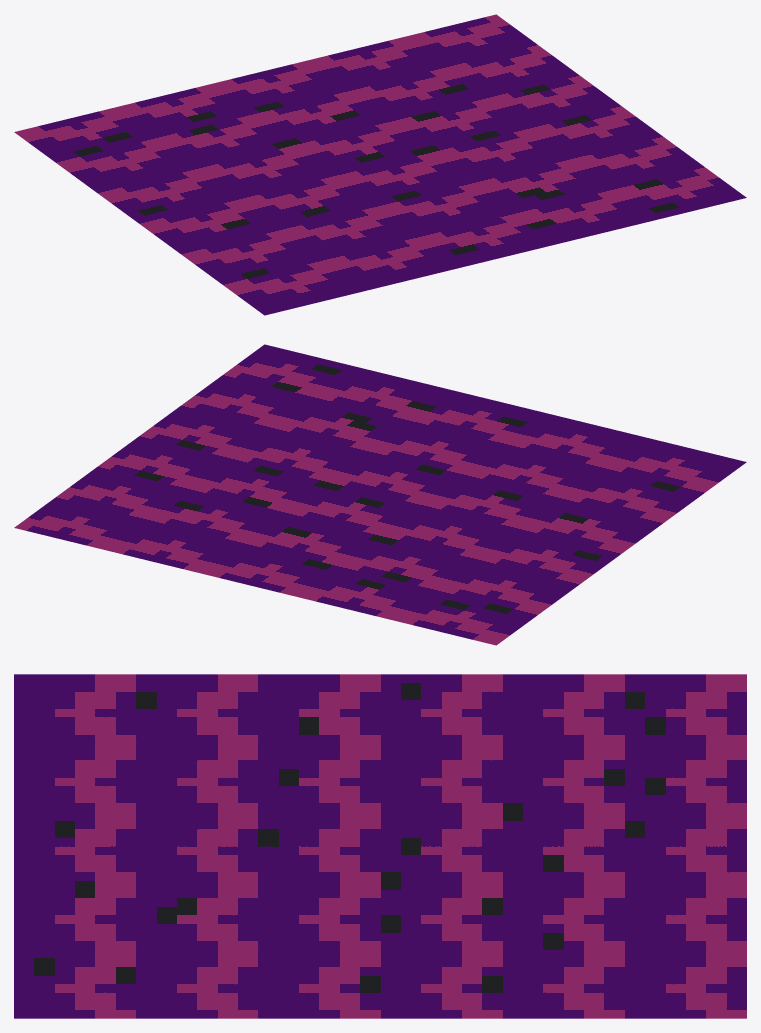
The model's file is floor.glb.
3 renders of one model, top to bottom at view 1: azimuth 30°, elevation 25°; view 2: azimuth 150°, elevation 25°; view 3: azimuth 270°, elevation 25°, orthographic. The views are drawn at different scales.
Visible parts, largest first — view 1: Floor; view 2: Floor; view 3: Floor.
Part boxes in pixels (left/top/right/bottom): Floor: left=14, top=14, right=746, bottom=315; Floor: left=14, top=344, right=746, bottom=645; Floor: left=14, top=674, right=746, bottom=1018.
Bounding box in the file's own units: 10 × 0 × 9.
Materials: 1 (1 with a texture image).
